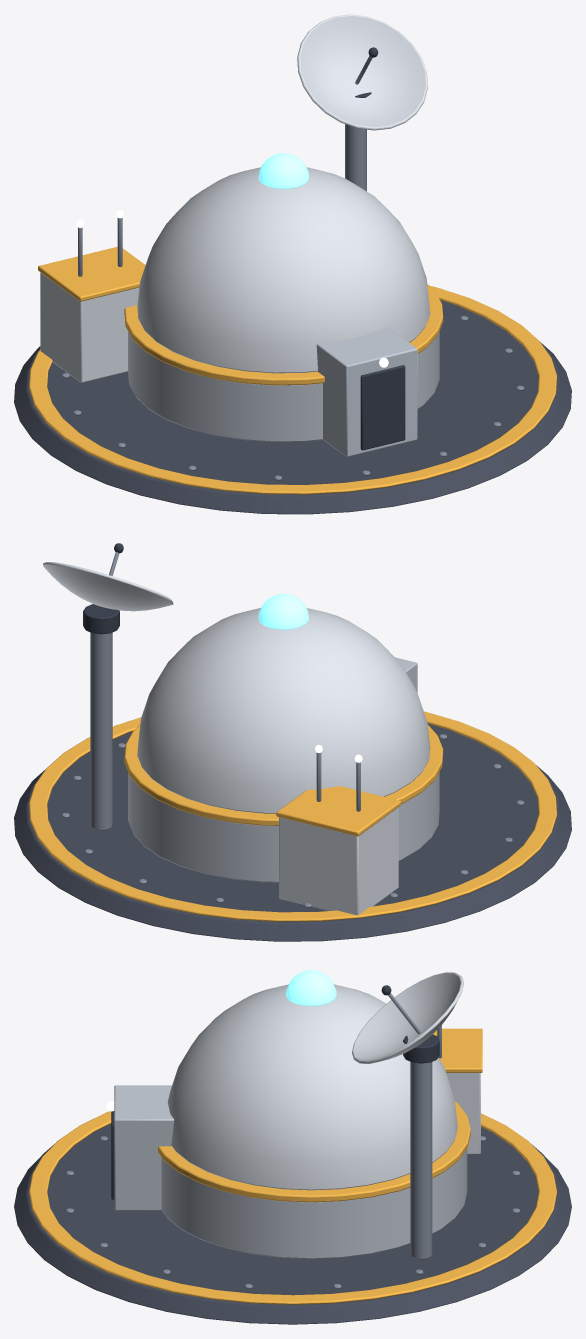
File: research.fbx
3 renders of one model, top to bottom at view 1: azimuth 30°, elevation 25°; view 2: azimuth 150°, elevation 25°; view 3: azimuth 270°, elevation 25°, orthographic.
Parts seen in each view (by area): view 1: research_Koerper, research_Dreh; view 2: research_Koerper, research_Dreh; view 3: research_Koerper, research_Dreh.
Boxes of the visible parts, <box> form: research_Koerper: <box>14,124,571,514</box>; research_Dreh: <box>297,14,427,130</box>; research_Koerper: <box>14,594,571,941</box>; research_Dreh: <box>43,543,173,634</box>; research_Koerper: <box>14,970,571,1324</box>; research_Dreh: <box>352,972,463,1063</box>.
Size of the model in its own units: 6.09 by 3.45 by 6.09.
